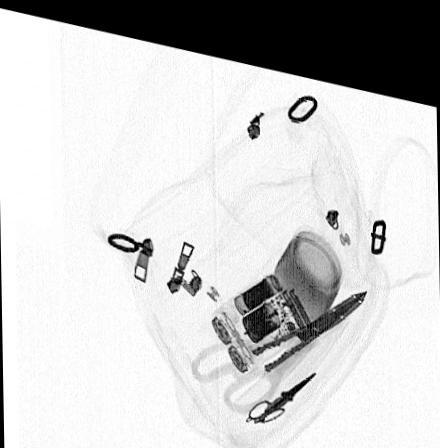Scissors: (188, 273, 368, 404)
